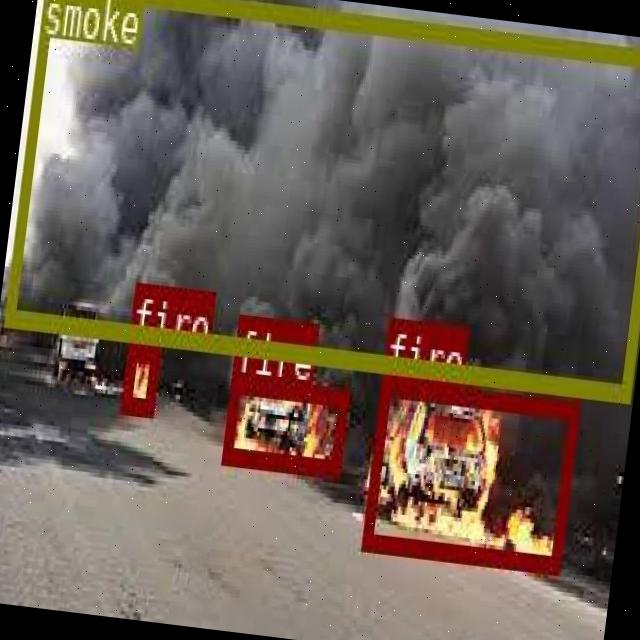fire: (360, 374, 578, 570), (222, 370, 348, 472), (118, 341, 158, 414)
smoke: (2, 0, 640, 397)
